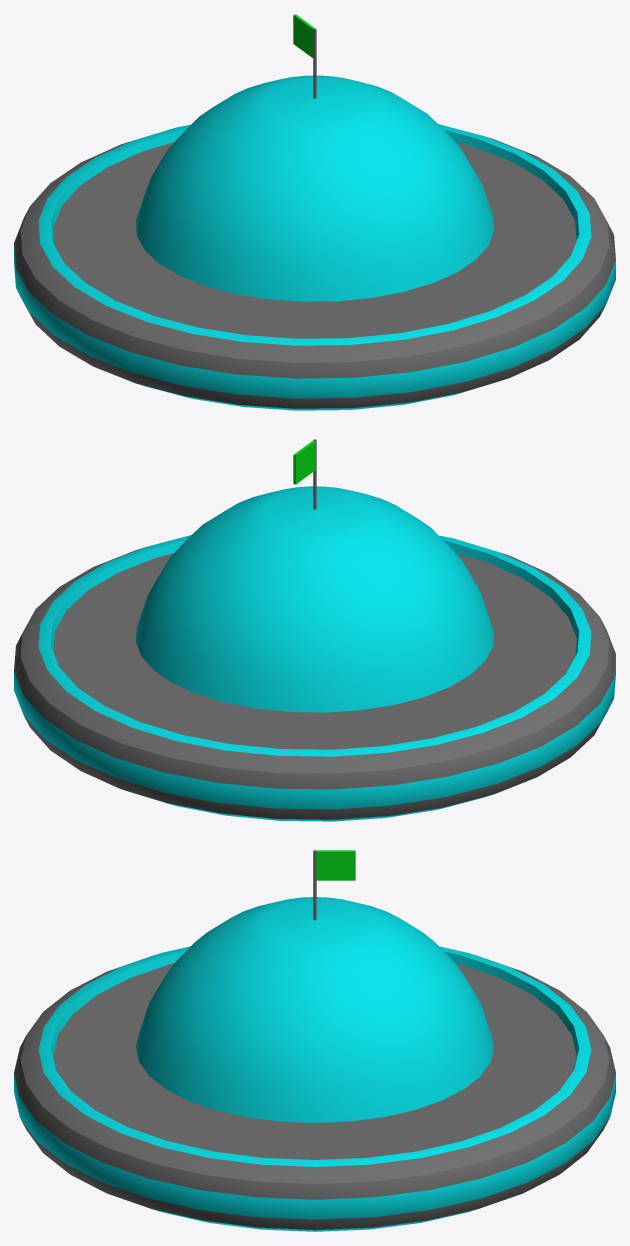
File: Ovni RC.fbx
3 views of the same model, one above another, from view 1: azimuth 30°, elevation 25°; view 2: azimuth 150°, elevation 25°; view 3: azimuth 270°, elevation 25° (orthographic).
Visible parts, largest first — view 1: Sphere; view 2: Sphere; view 3: Sphere.
Boxes of the visible parts, x1=… form: Sphere: x1=14, y1=14, x2=615, y2=410; Sphere: x1=14, y1=439, x2=615, y2=821; Sphere: x1=14, y1=850, x2=615, y2=1231.
Bounding box in the file's own units: 200 × 98.1 × 200.
